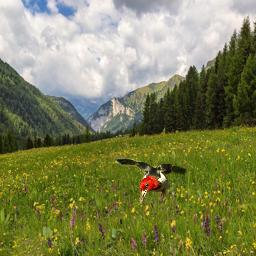Woodpecker: (112, 154, 188, 206)
